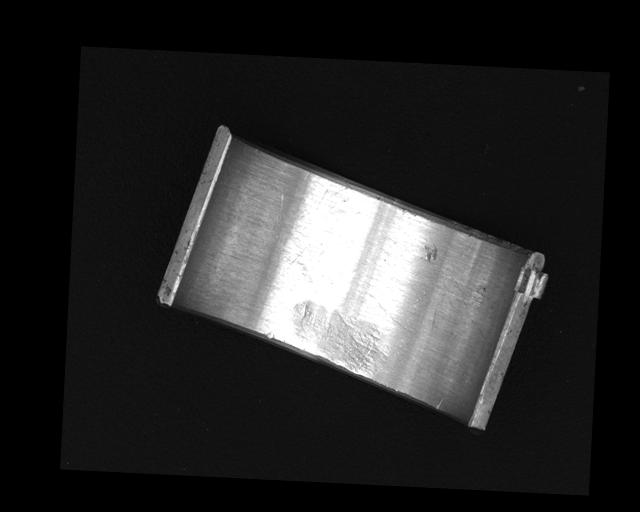blot: (279, 236, 326, 287)
bruise: (421, 243, 439, 262), (263, 331, 275, 340)
nick: (436, 398, 445, 410)
scratch: (289, 297, 393, 375)
